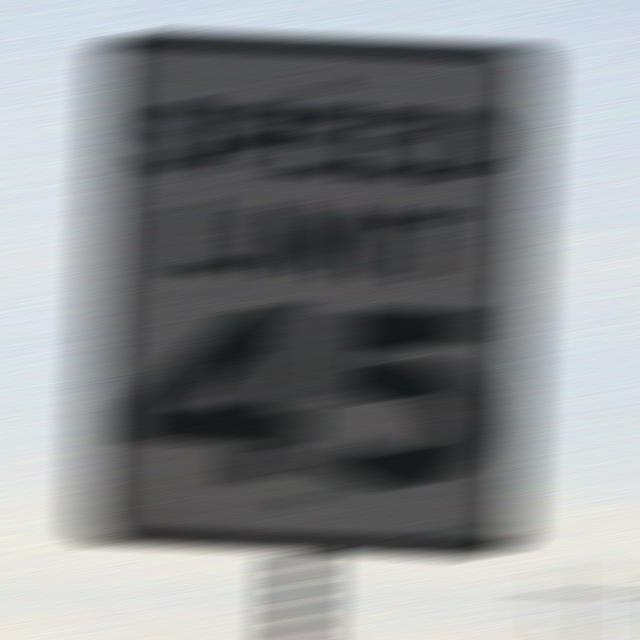speedLimit45: (92, 60, 533, 532)
